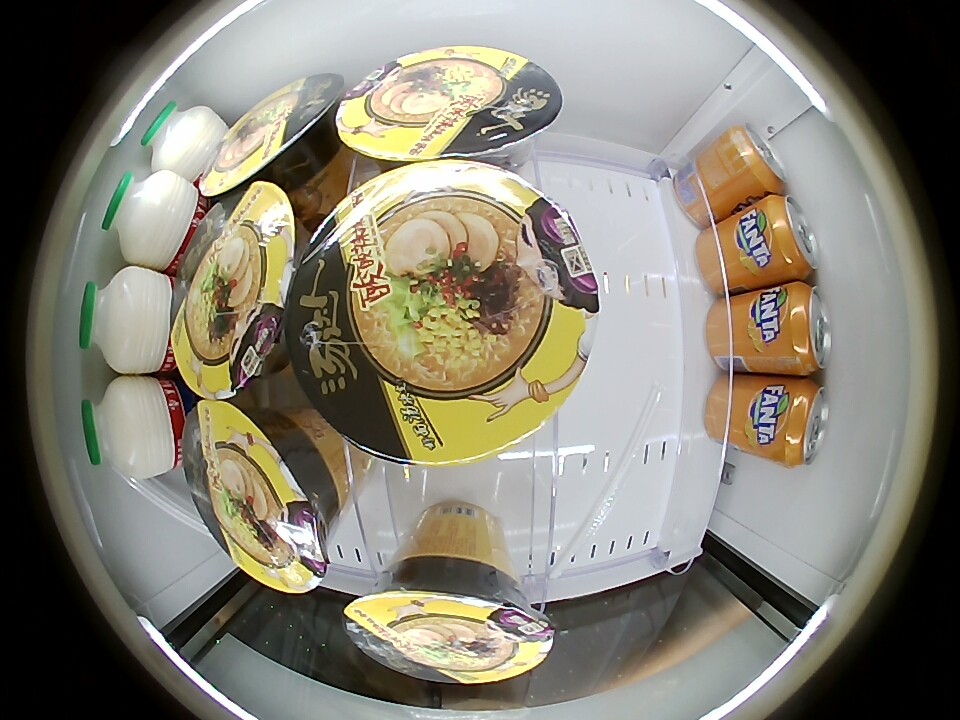fenda: (762, 195, 820, 279), (776, 379, 829, 468), (780, 283, 831, 375), (724, 125, 787, 193)
liziyuan: (80, 375, 181, 478), (78, 266, 172, 375), (100, 170, 199, 269), (141, 100, 222, 180)
tangdaren2: (288, 161, 602, 467), (185, 399, 340, 595), (170, 181, 301, 400), (335, 45, 565, 164), (343, 556, 554, 684), (200, 73, 347, 197)
